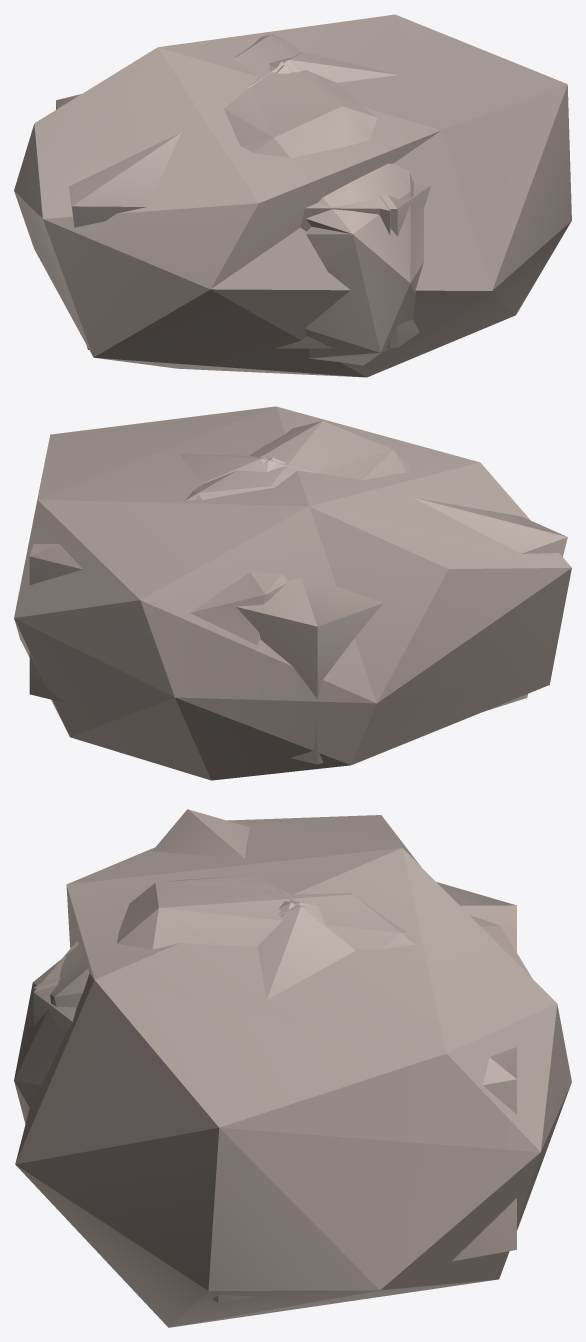
File: Asteroids.fbx
3 renders of one model, top to bottom at view 1: azimuth 30°, elevation 25°; view 2: azimuth 150°, elevation 25°; view 3: azimuth 270°, elevation 25°, orthographic. The views are drawn at different scales.
Visible parts, largest first — view 1: thicc, wide; view 2: thicc, wide; view 3: thicc, wide.
Boxes of the visible parts, <box> form: thicc: <box>14,14,571,377</box>; wide: <box>224,34,423,365</box>; thicc: <box>14,406,571,780</box>; wide: <box>185,421,410,645</box>; thicc: <box>15,809,571,1327</box>; wide: <box>14,875,532,1123</box>.
Bounding box in the file's own units: 198 × 102 × 148.
2 materials, 2 textured.
